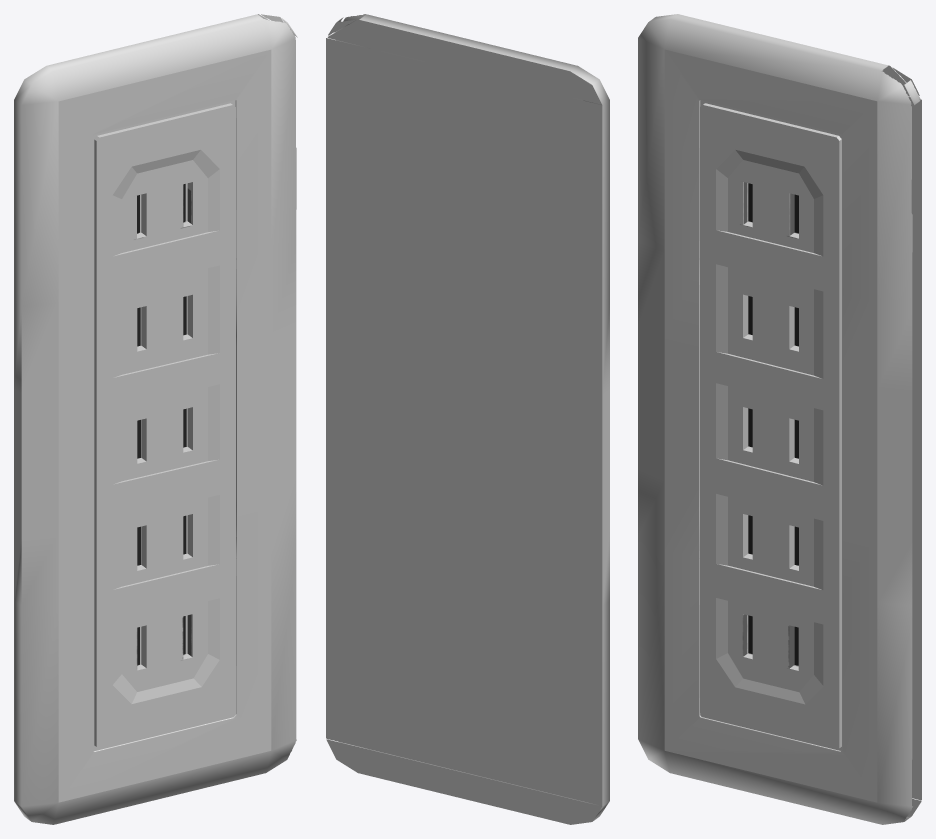
The model's file is socket_5.fbx.
3 views of the same model, side by side, from view 1: azimuth 30°, elevation 25°; view 2: azimuth 150°, elevation 25°; view 3: azimuth 330°, elevation 25° (orthographic).
Visible parts, largest first — view 1: pCube1; view 2: pCube1; view 3: pCube1.
Part boxes in pixels (bbox=[...]): pCube1: bbox=[14, 14, 297, 824]; pCube1: bbox=[326, 14, 609, 824]; pCube1: bbox=[638, 14, 921, 824].
Bounding box in the file's own units: 14.59 × 38.01 × 1.28.
1 material, 1 textured.
